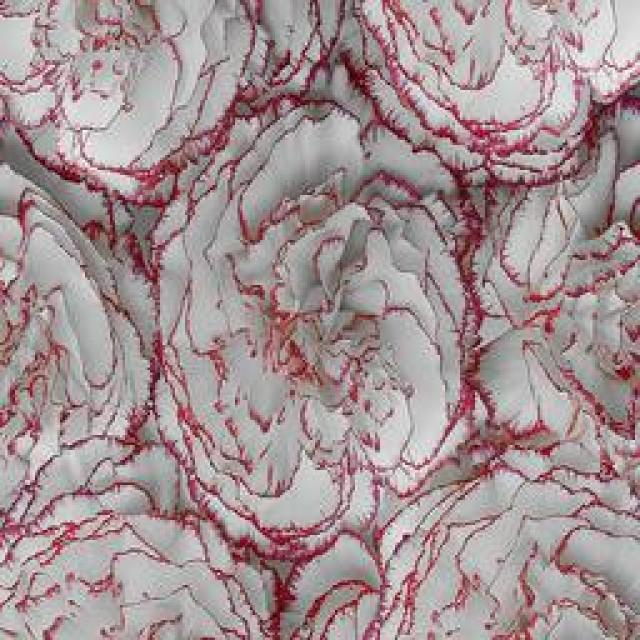carnation: (137, 100, 545, 554)
